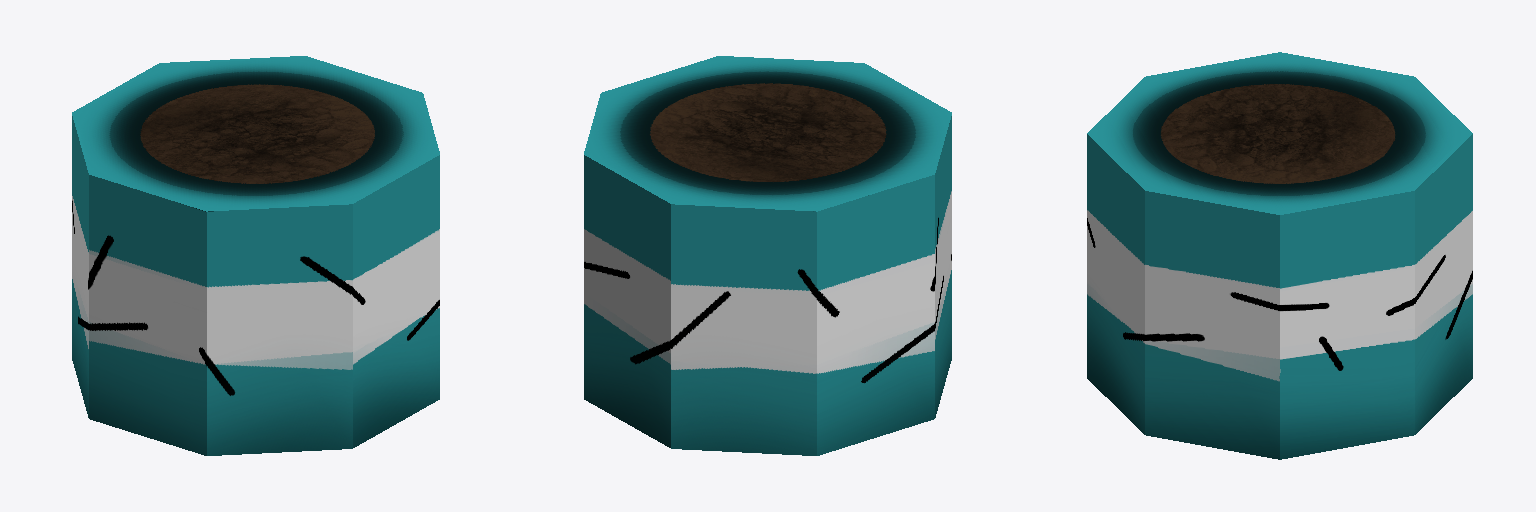
The picture shows the model from 3 angles: view 1: azimuth 30°, elevation 25°; view 2: azimuth 150°, elevation 25°; view 3: azimuth 270°, elevation 25°; orthographic projection.
Visible parts, largest first — view 1: vase1; view 2: vase1; view 3: vase1.
Part boxes in pixels (x1,y1,x2,y2): vase1: (72, 56, 439, 455); vase1: (584, 56, 951, 455); vase1: (1087, 52, 1472, 459).
Bounding box in the file's own units: 0.5288 × 0.3698 × 0.5288.
1 materials, 1 textured.